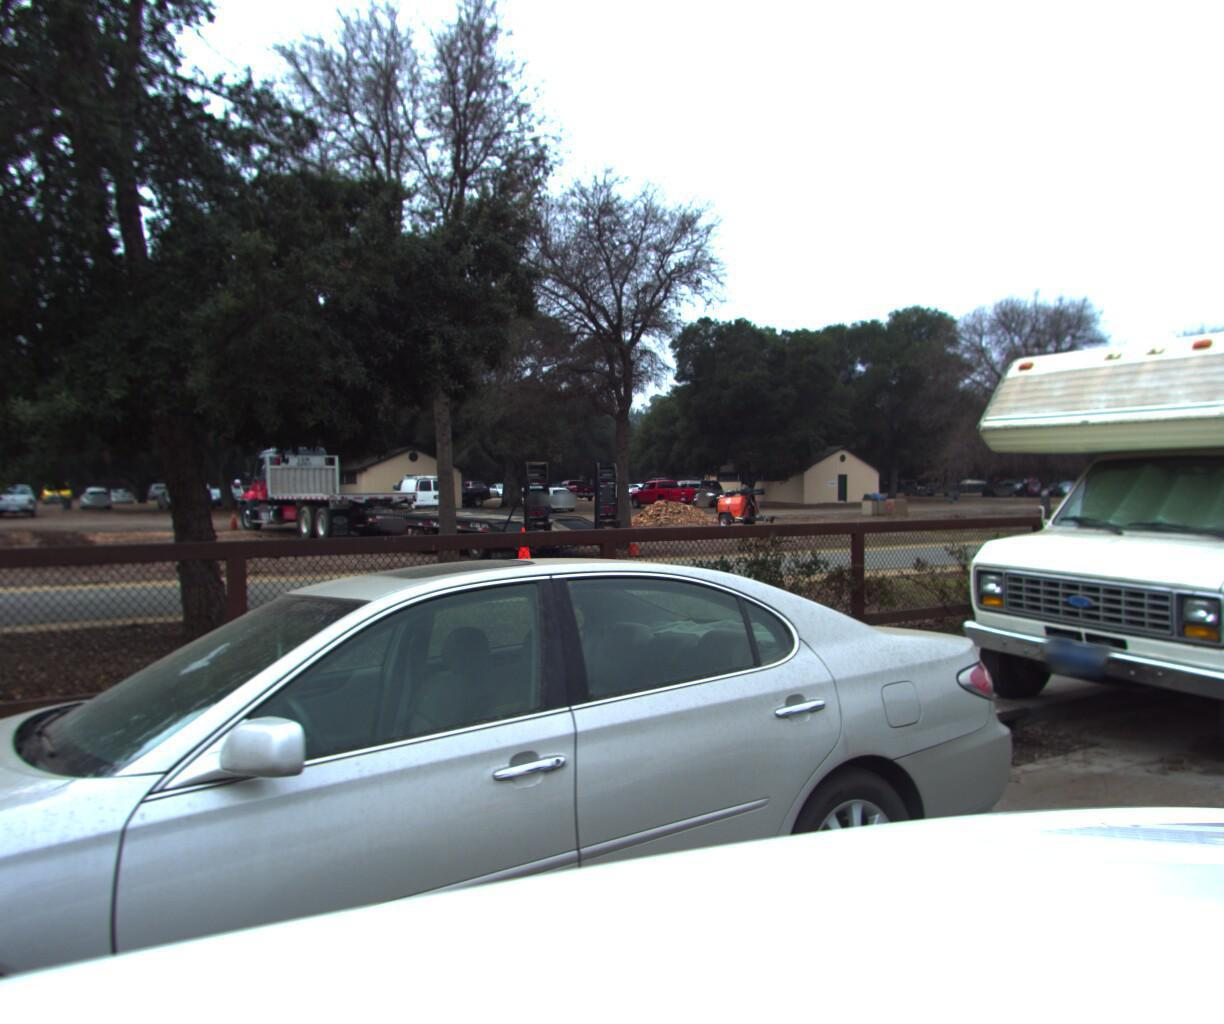car: (0, 520, 1076, 1024)
other_vehicle: (923, 201, 1224, 786)
